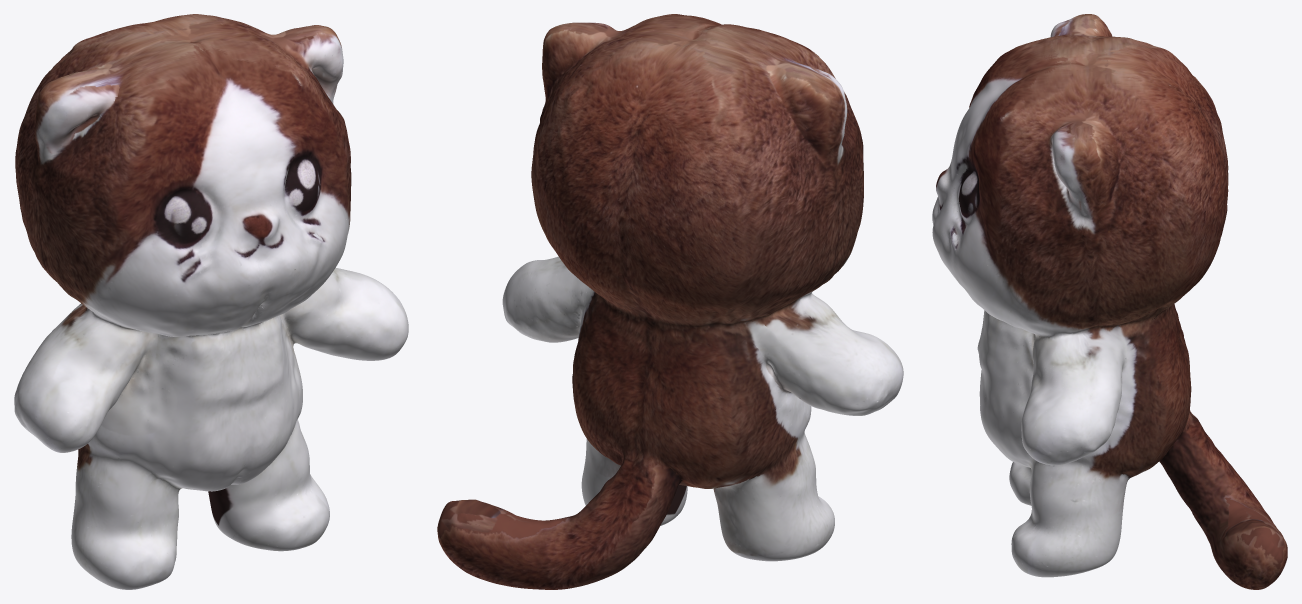
Rendered from ChocChip_Model_v11.glb.
3 views of the same model, side by side, from view 1: azimuth 30°, elevation 25°; view 2: azimuth 150°, elevation 25°; view 3: azimuth 270°, elevation 25° (orthographic). The views are drawn at different scales.
Visible parts, largest first — view 1: geometry_0; view 2: geometry_0; view 3: geometry_0.
Part boxes in pixels (box(x1,y1,x2,y2)): geometry_0: box(14, 14, 408, 589); geometry_0: box(437, 14, 903, 589); geometry_0: box(932, 14, 1287, 589).
Size of the model in its own units: 1.54 by 1.97 by 1.34.
Materials: 1 (1 with a texture image).
